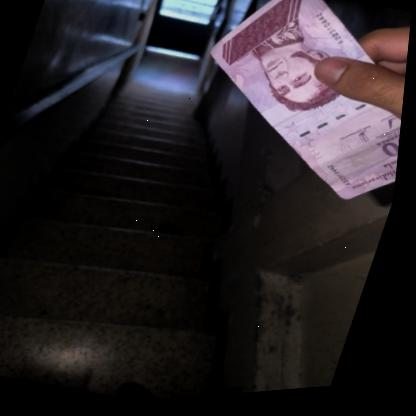one_hundred-front-vef: (169, 0, 416, 230)
